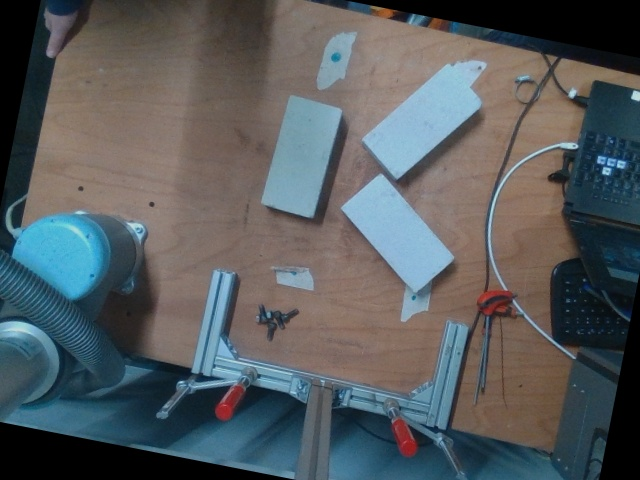brick: (360, 61, 486, 180), (342, 173, 455, 293), (263, 94, 341, 215)
